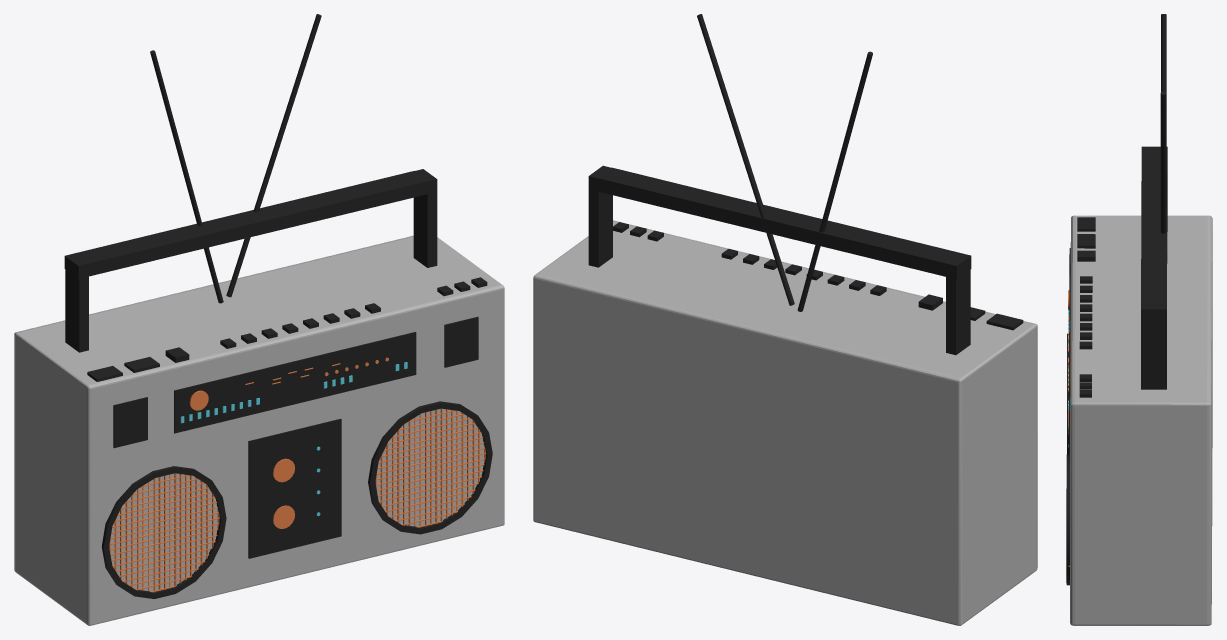
Rendered from boombox.gltf.
The picture shows the model from 3 angles, left to right: view 1: azimuth 30°, elevation 25°; view 2: azimuth 150°, elevation 25°; view 3: azimuth 270°, elevation 25°; orthographic projection. The views are drawn at different scales.
Parts seen in each view (by area): view 1: node-0; view 2: node-0; view 3: node-0.
Boxes of the visible parts, <box> form: node-0: <box>14,14,504,625</box>; node-0: <box>533,14,1037,625</box>; node-0: <box>1066,14,1212,625</box>.
Bounding box in the file's own units: 0.3077 × 0.3612 × 0.1006.
